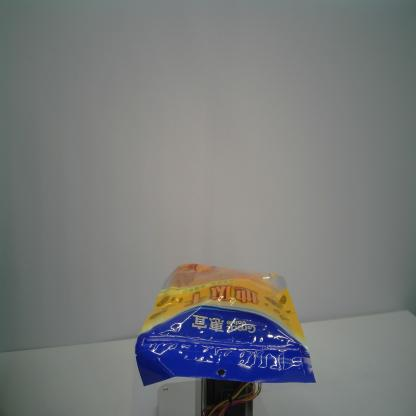Dried Fruit: (134, 263, 317, 389)
